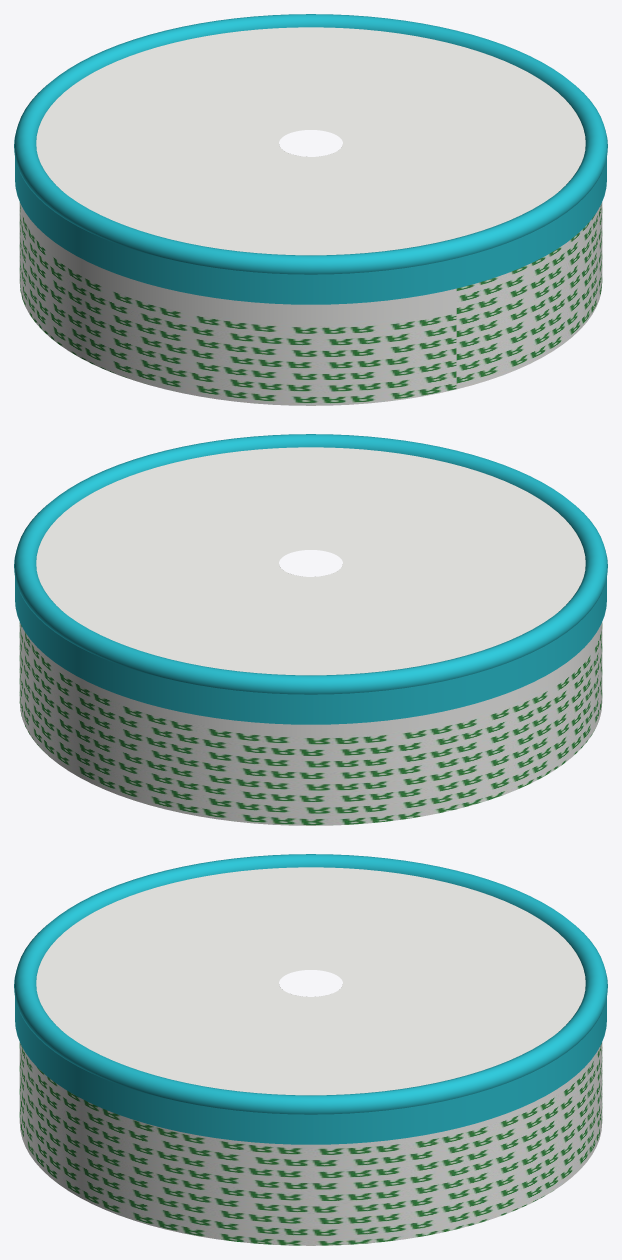
3 renders of one model, top to bottom at view 1: azimuth 30°, elevation 25°; view 2: azimuth 150°, elevation 25°; view 3: azimuth 270°, elevation 25°, orthographic.
Parts seen in each view (by area): view 1: M300-H80; view 2: M300-H80; view 3: M300-H80.
Part boxes in pixels (left/top/right/bottom): M300-H80: left=14, top=14, right=607, bottom=405; M300-H80: left=14, top=434, right=607, bottom=825; M300-H80: left=14, top=854, right=607, bottom=1245.
Bounding box in the file's own units: 0.309 × 0.0844 × 0.309.
6 materials, 1 textured.
